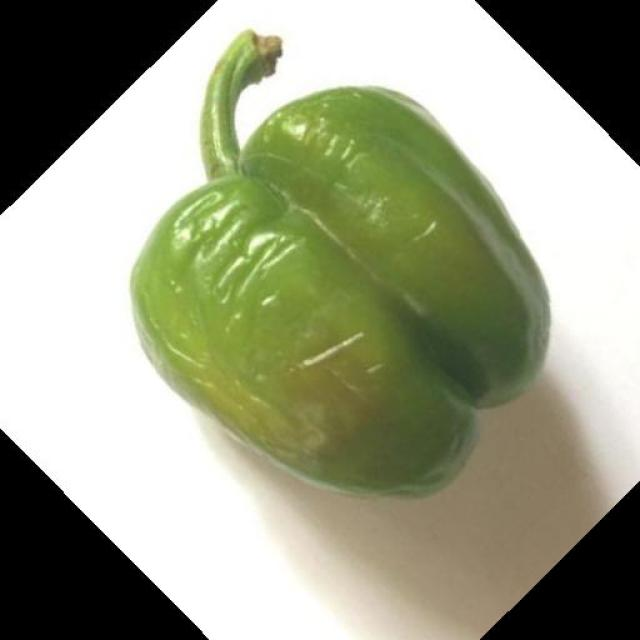Stale_Capsicum: (136, 72, 526, 498)
